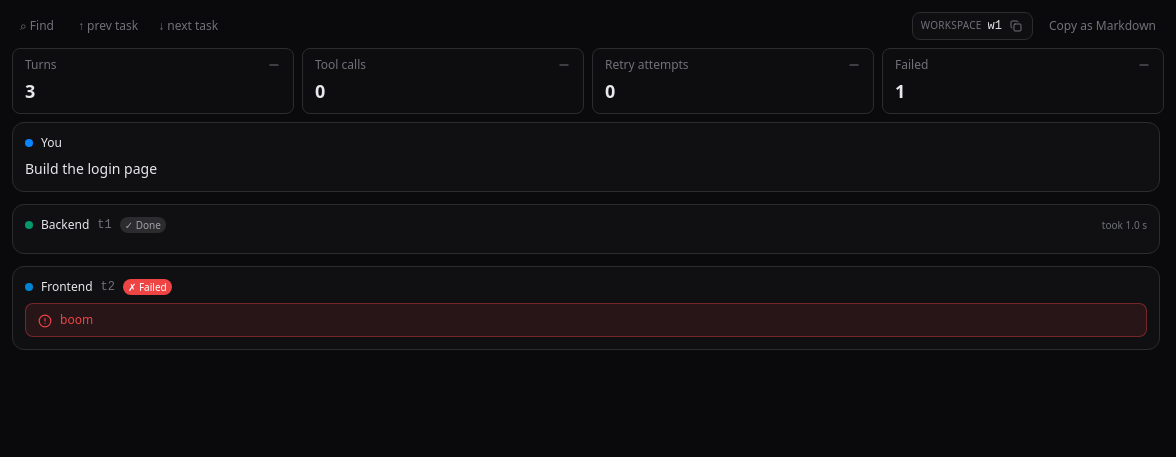
ConversationTimeline finishing › stepping the turn navigator retires the find cursor
The image size is (1176, 457).
Click the button "⌕ Find" at (37, 26), box [12, 12, 62, 40]
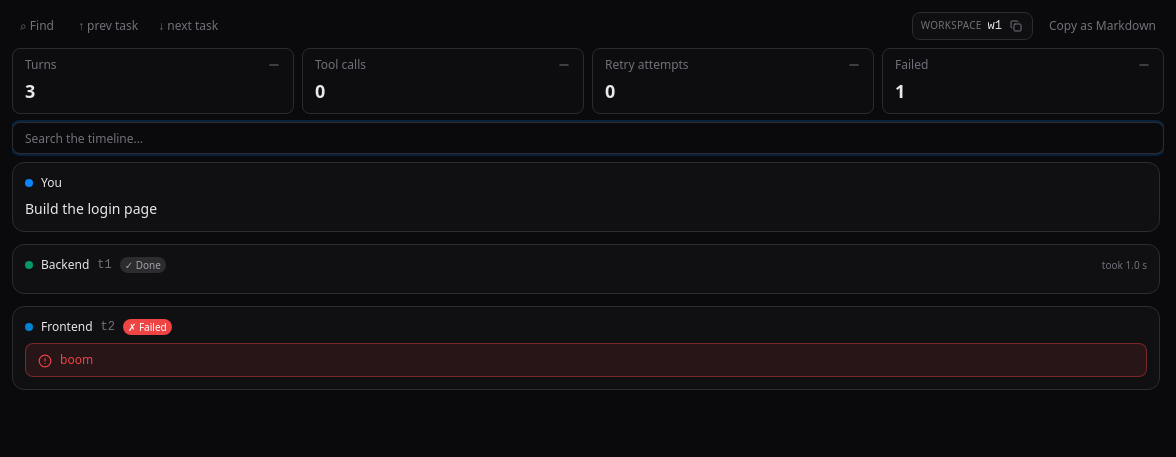
Type "t" into the field with test id "timeline-find" at (588, 138), box [12, 122, 1164, 154]
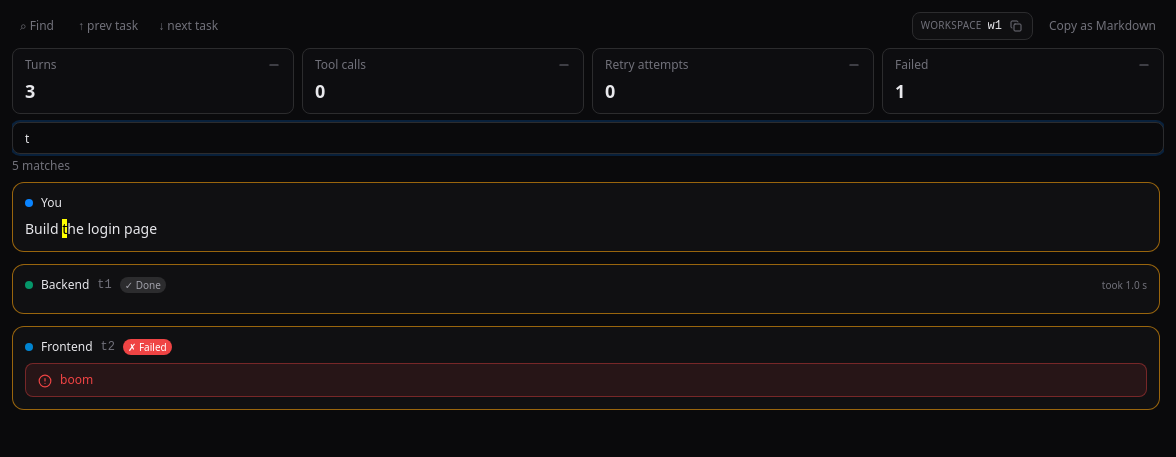
Press Enter in the field with test id "timeline-find", box [12, 122, 1164, 154]
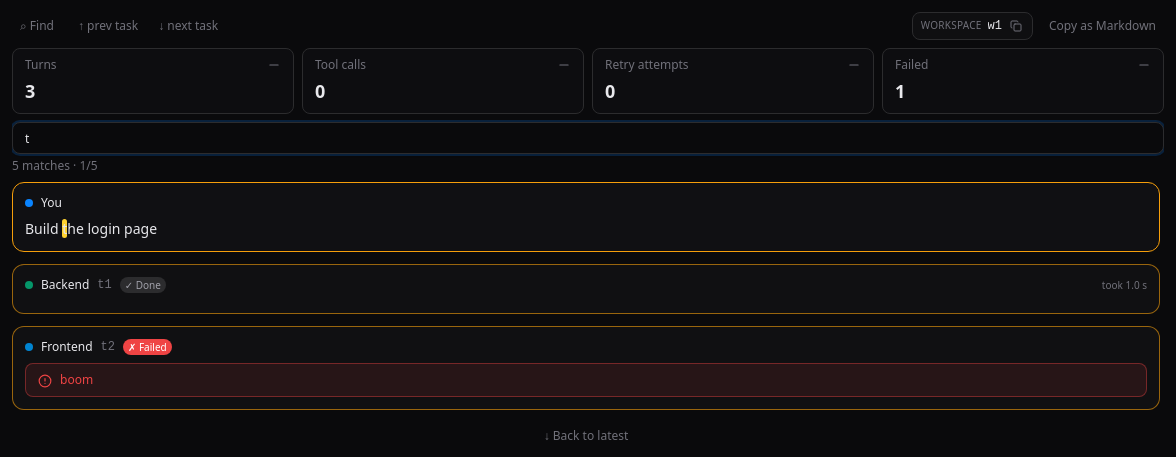
Check: the text "t" is shown, box [62, 219, 67, 238]
Check: the text with test id "find-current-position" shows "1/5", box [70, 157, 98, 174]
Click the button "↓ next task" at (188, 26), box [150, 12, 226, 40]
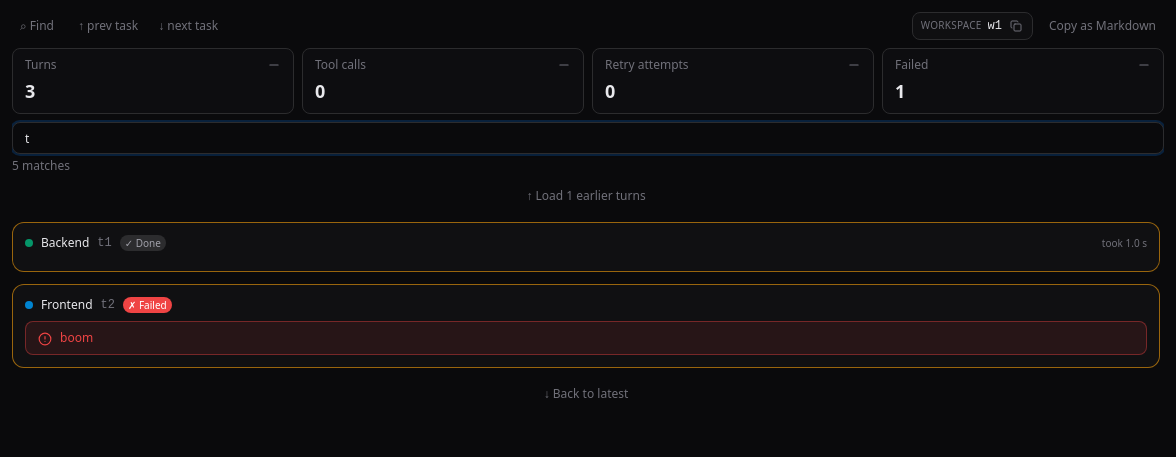
Check: the text "5 matches" is shown, box [12, 157, 70, 174]
Check: the text with test id "find-current-position" is gone
Check: the text with test id "mark-current" is gone
